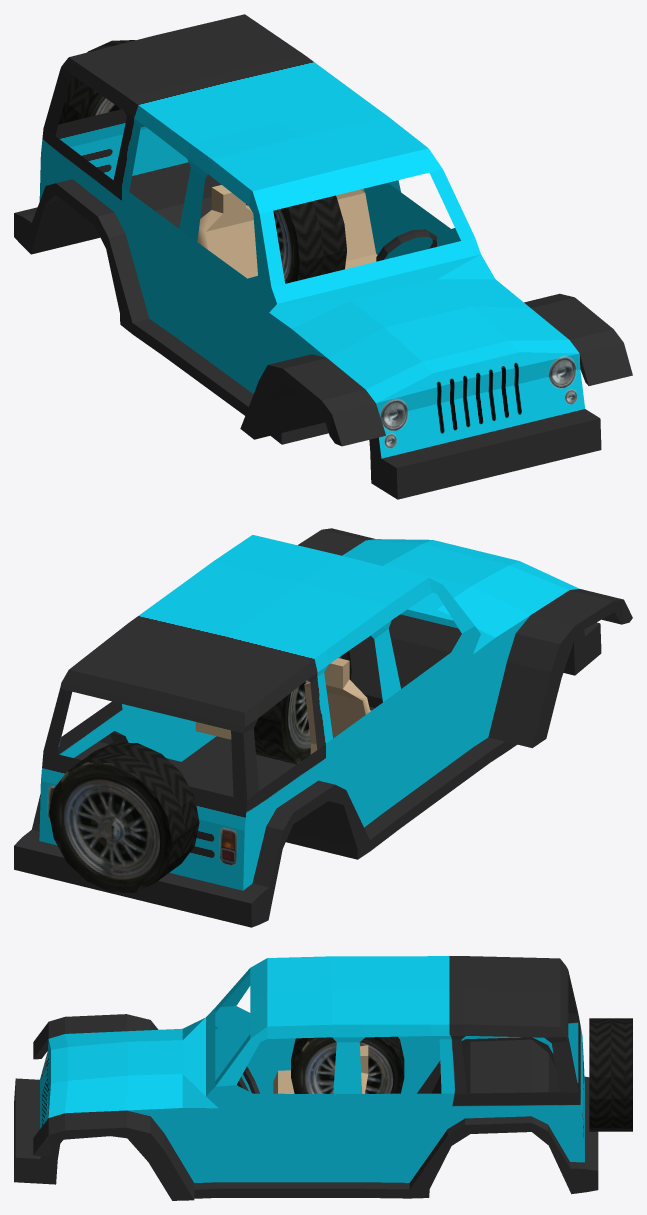
The model's file is jeep blue.glb.
3 views of the same model, one above another, from view 1: azimuth 30°, elevation 25°; view 2: azimuth 150°, elevation 25°; view 3: azimuth 270°, elevation 25° (orthographic). The views are drawn at different scales.
Visible parts, largest first — view 1: body, wheel; view 2: body, wheel; view 3: body, wheel.
Boxes of the visible parts, x1,y1,x2,y2 form: body: [14, 14, 632, 499]; wheel: [246, 195, 346, 283]; body: [14, 528, 632, 927]; wheel: [254, 650, 351, 764]; body: [14, 956, 632, 1200]; wheel: [291, 1036, 404, 1093].
Size of the model in its own units: 2.04 by 1.36 by 4.67.
Materials: 1 (1 with a texture image).
